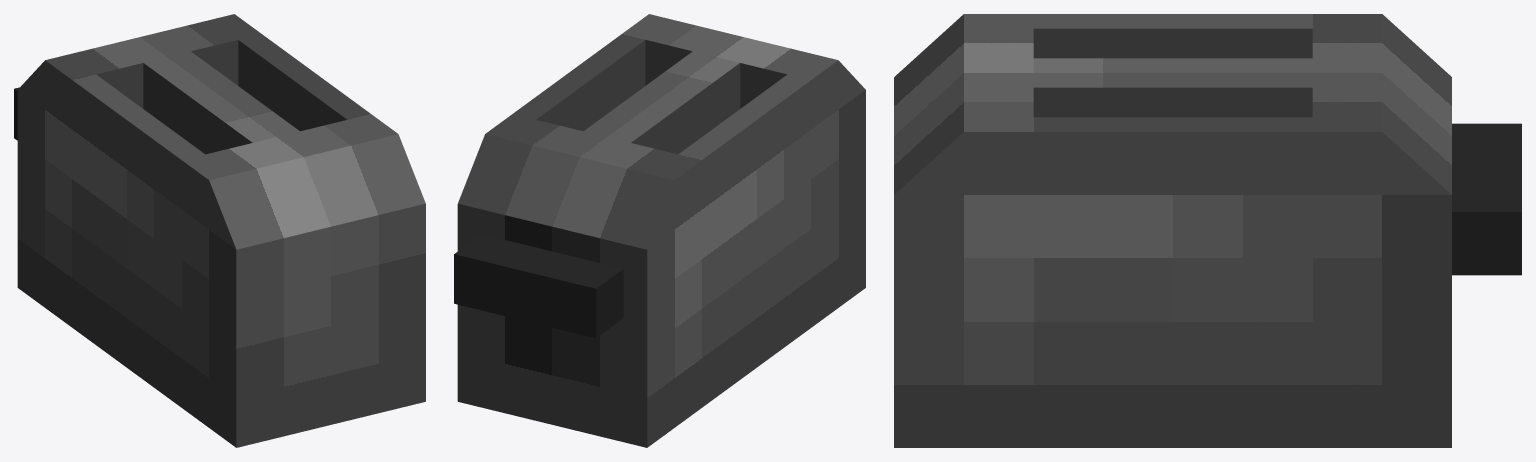
The model's file is toaster.obj.
3 views of the same model, side by side, from view 1: azimuth 30°, elevation 25°; view 2: azimuth 150°, elevation 25°; view 3: azimuth 270°, elevation 25° (orthographic). The views are drawn at different scales.
Visible parts, largest first — view 1: Plane; view 2: Plane; view 3: Plane.
Part boxes in pixels (x1=…): Plane: x1=14, y1=14, x2=425, y2=447; Plane: x1=454, y1=14, x2=865, y2=447; Plane: x1=894, y1=14, x2=1521, y2=447.
Bounding box in the file's own units: 0.25 × 0.3125 × 0.5625.
